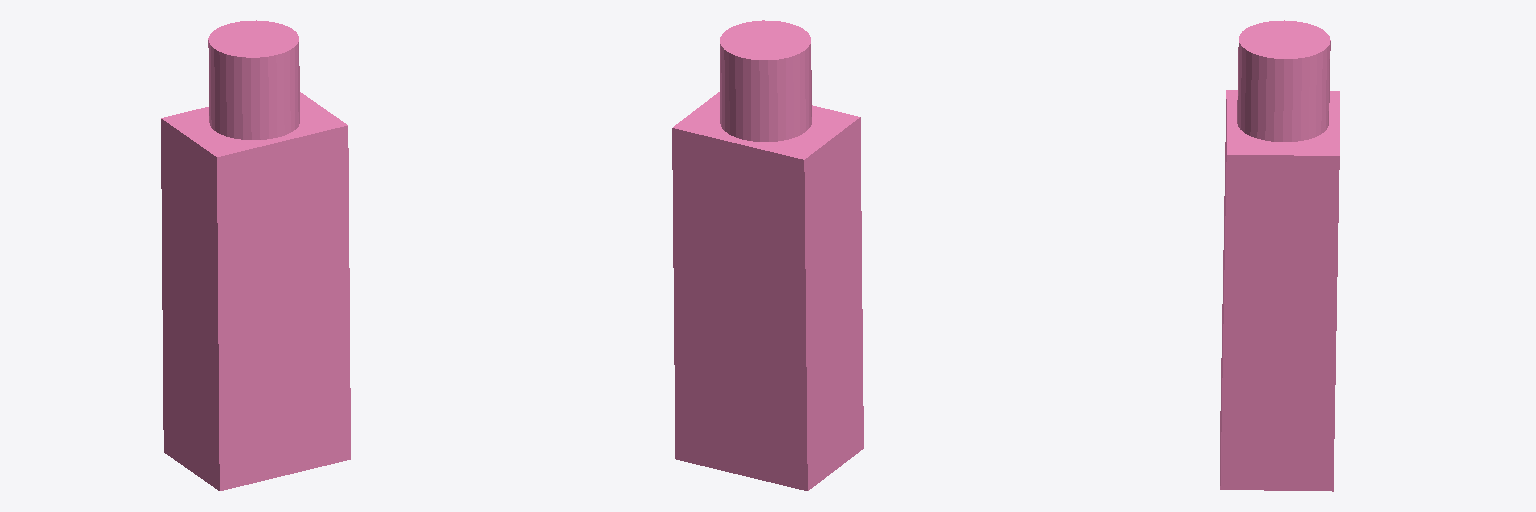
URDF robot description (taskObject):
<?xml version="1.0"?>
<!-- created with Phobos 1.0.1 "Capricious Choutengan" -->
  <robot name="taskObject">

    <link name="obj_root">
      <inertial>
        <origin xyz="0 0 0" rpy="0 0 0"/>
        <mass value="0.001"/>
        <inertia ixx="0.001" ixy="0" ixz="0" iyy="0.001" iyz="0" izz="0.001"/>
      </inertial>
      <visual name="object">
        <origin xyz="0 0 0" rpy="-0.00614 0.01569 1.13553"/>
        <geometry>
          <mesh filename="package://taskObject/meshes/dae/object.dae" scale="0.99999 0.99999 1.0"/>
        </geometry>
        <material name="$Material_0"/>
      </visual>
    </link>

    <material name="$Material_0">
      <color rgba="1.0 0.6 0.8 1.0"/>
    </material>

  </robot>

--- Render facts (derived) ---
Views: 3 orthographic renders of the robot side by side, from view 1: azimuth 30°, elevation 25°; view 2: azimuth 150°, elevation 25°; view 3: azimuth 270°, elevation 25°.
Robot: taskObject — 1 links, 0 joints (none); root link obj_root; default pose: all joints at 0.
Visible links, largest first — view 1: obj_root; view 2: obj_root; view 3: obj_root.
Boxes of the visible links, left/top/right/bottom form: obj_root: left=161, top=20, right=350, bottom=490; obj_root: left=672, top=20, right=863, bottom=490; obj_root: left=1220, top=20, right=1339, bottom=491.
Size in the robot's own frame: 0.0351 by 0.0272 by 0.1056 metres.
1 mesh visuals loaded from 1 distinct referenced files (1 Collada DAE).